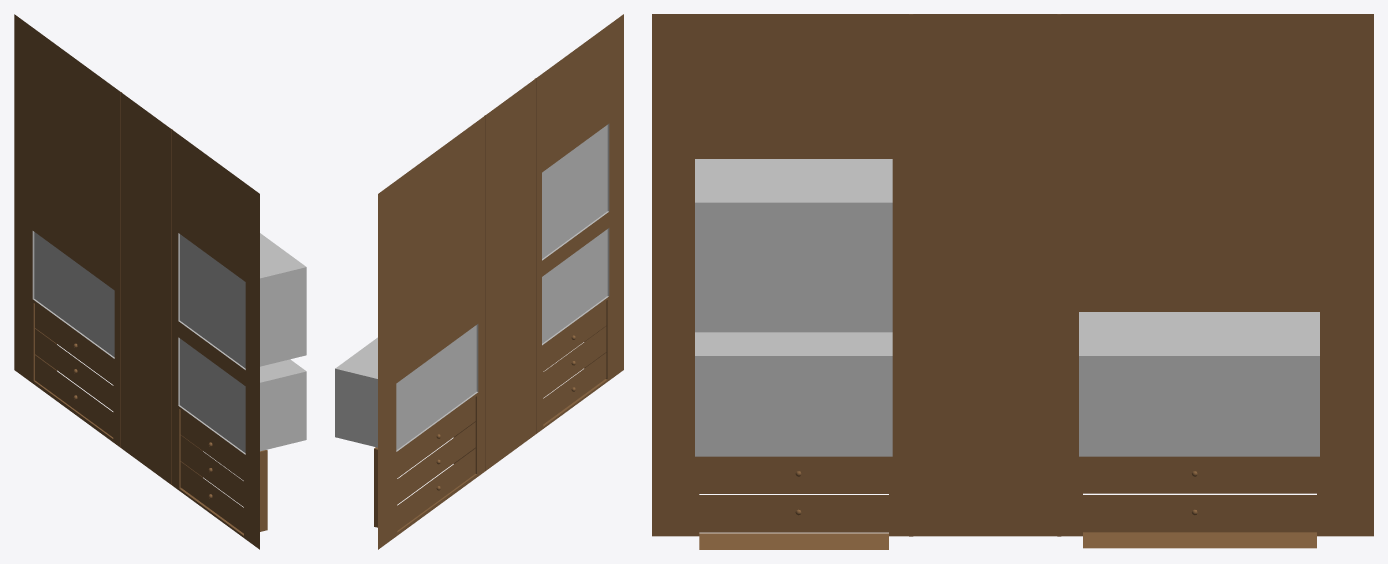
Rendered from display wall.fbx.
The picture shows the model from 3 angles, left to right: view 1: azimuth 30°, elevation 25°; view 2: azimuth 150°, elevation 25°; view 3: azimuth 270°, elevation 25°; orthographic projection. The views are drawn at different scales.
Parts seen in each view (by area): view 1: body, body_2, body_1, Cube_2, Cube_3, Cube_1; view 2: body, body_2, body_1, Cube_2, Cube_3, Cube_1; view 3: body, body_1, Cube_2, Cube_3.
Boxes of the visible parts, x1,y1,x2,y2 form: body: [14, 14, 267, 549]; body_2: [34, 232, 245, 452]; body_1: [32, 231, 306, 454]; Cube_2: [35, 329, 243, 506]; Cube_3: [35, 355, 243, 533]; Cube_1: [35, 304, 243, 480]; body: [374, 14, 623, 549]; body_2: [396, 125, 607, 450]; body_1: [335, 123, 609, 451]; Cube_2: [397, 326, 606, 504]; Cube_3: [397, 353, 606, 530]; Cube_1: [397, 301, 606, 477]; body: [652, 14, 1373, 549]; body_1: [695, 159, 1319, 456]; Cube_2: [699, 456, 1316, 493]; Cube_3: [699, 495, 1316, 532].
Bounding box in the file's own units: 134 × 727 × 910.
